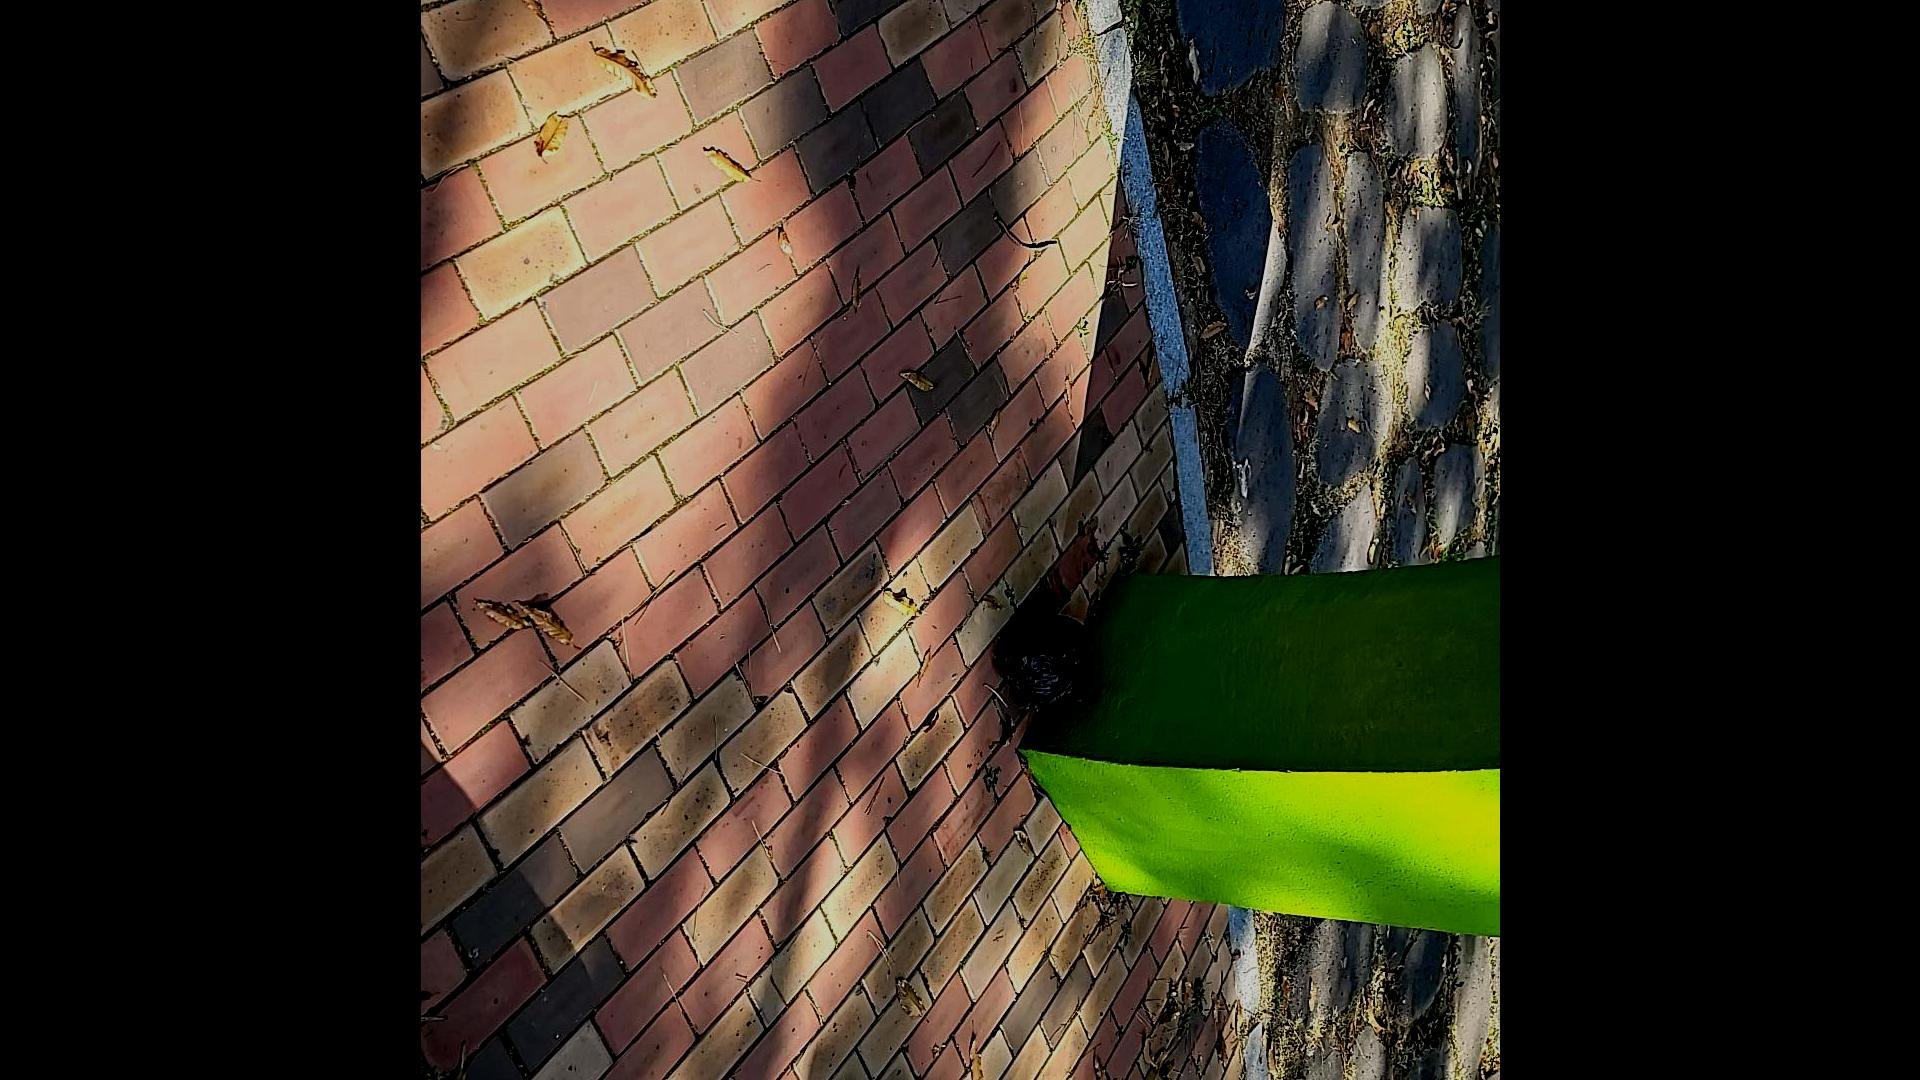black_bag: (992, 600, 1093, 724)
